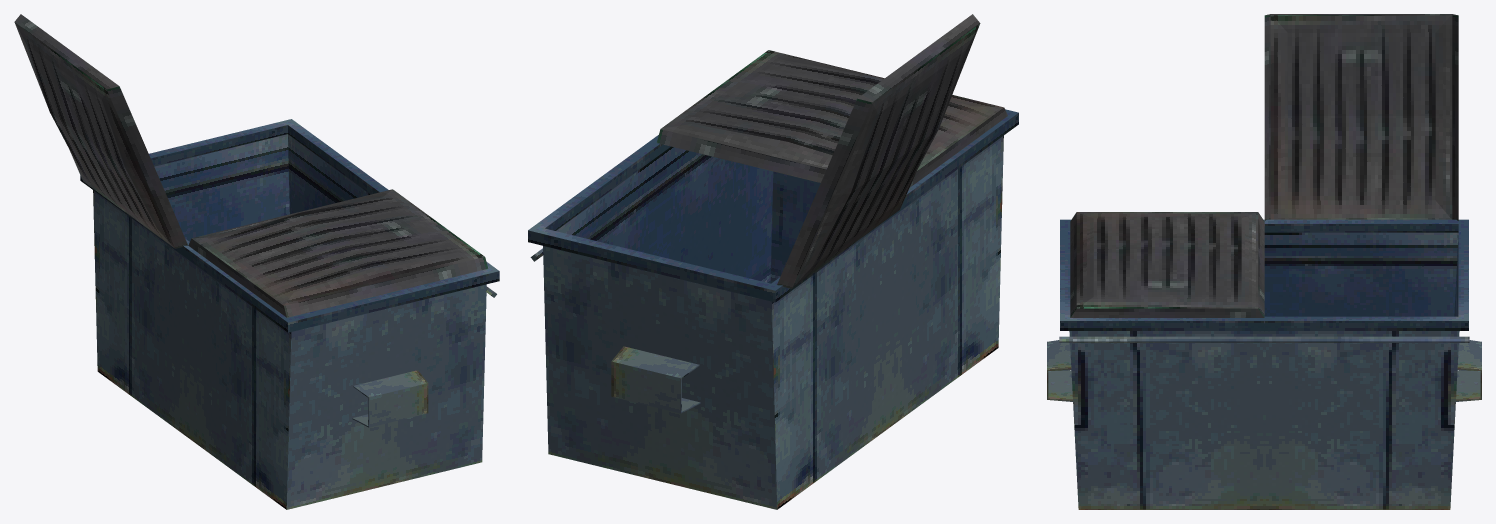
File: dumpster_empty_lid_open_blue.glb
The picture shows the model from 3 angles, left to right: view 1: azimuth 30°, elevation 25°; view 2: azimuth 150°, elevation 25°; view 3: azimuth 270°, elevation 25°; orthographic projection. The views are drawn at different scales.
Parts seen in each view (by area): view 1: dumpster_empty_lid_open_blue; view 2: dumpster_empty_lid_open_blue; view 3: dumpster_empty_lid_open_blue.
Boxes of the visible parts, x1,y1,x2,y2 form: dumpster_empty_lid_open_blue: (14,14,499,509); dumpster_empty_lid_open_blue: (528,14,1018,509); dumpster_empty_lid_open_blue: (1047,14,1481,509).
Size of the model in its own units: 2.74 by 3.41 by 3.67.
1 material, 1 textured.
